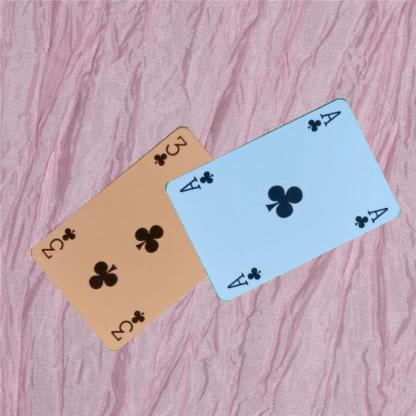3c: (107, 307, 147, 342), (151, 132, 189, 168)
Ac: (224, 264, 263, 290), (304, 107, 342, 132)
